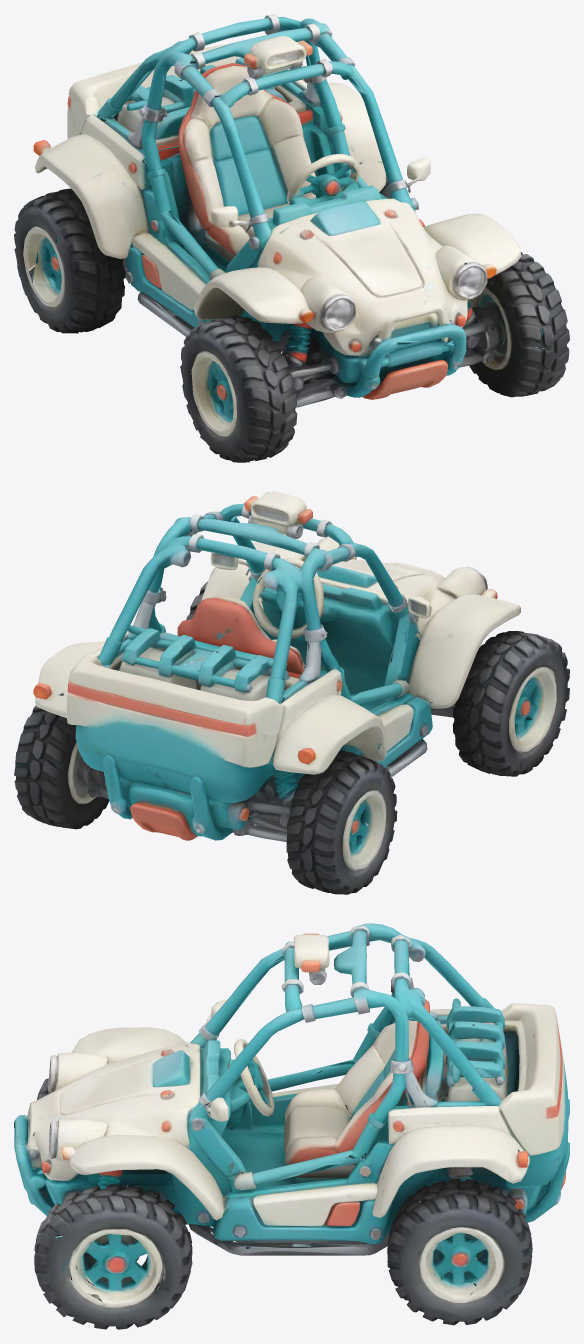
File: reef.glb
The picture shows the model from 3 angles, top to bottom: view 1: azimuth 30°, elevation 25°; view 2: azimuth 150°, elevation 25°; view 3: azimuth 270°, elevation 25°; orthographic projection. The views are drawn at different scales.
Visible parts, largest first — view 1: model; view 2: model; view 3: model.
Boxes of the visible parts, x1,y1,x2,y2 form: model: (14,14,569,462); model: (14,491,569,894); model: (14,923,569,1329).
Bounding box in the file's own units: 1.31 × 1.19 × 1.9.
Materials: 1 (1 with a texture image).
